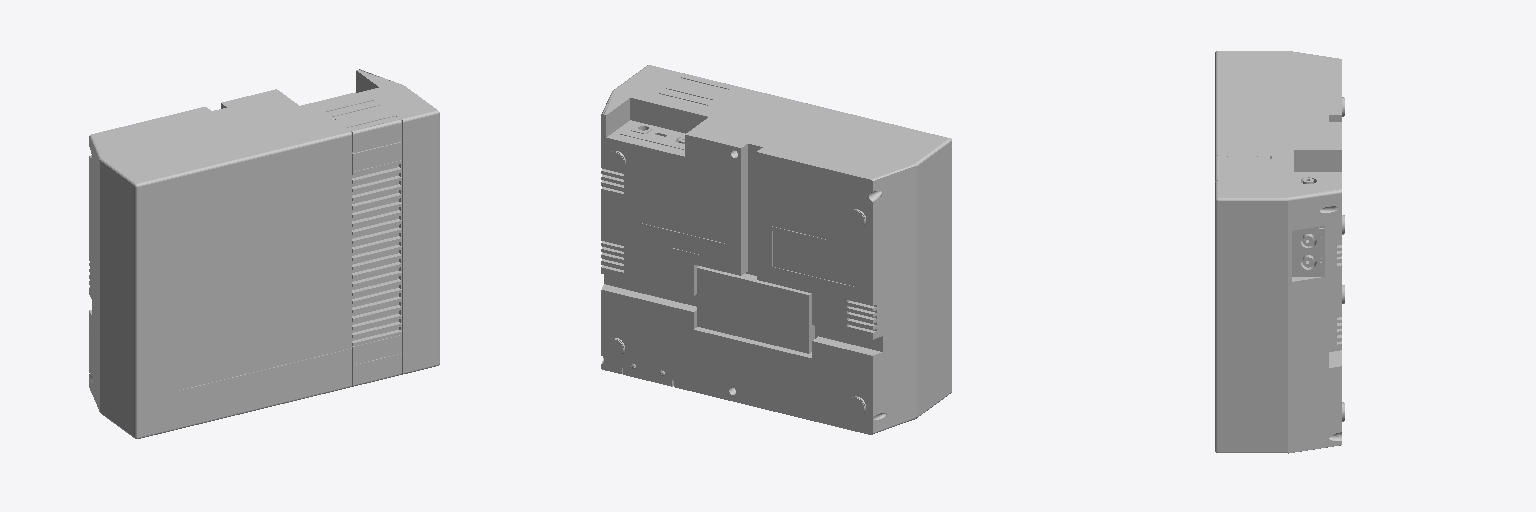
Rendered from nes.obj.
The picture shows the model from 3 angles: view 1: azimuth 30°, elevation 25°; view 2: azimuth 150°, elevation 25°; view 3: azimuth 270°, elevation 25°; orthographic projection.
Parts seen in each view (by area): view 1: obj_0; view 2: obj_0; view 3: obj_0.
Boxes of the visible parts, x1,y1,x2,y2 form: obj_0: [89, 69, 439, 438]; obj_0: [601, 65, 951, 434]; obj_0: [1215, 51, 1344, 453].
Size of the model in its own units: 125 by 103 by 46.